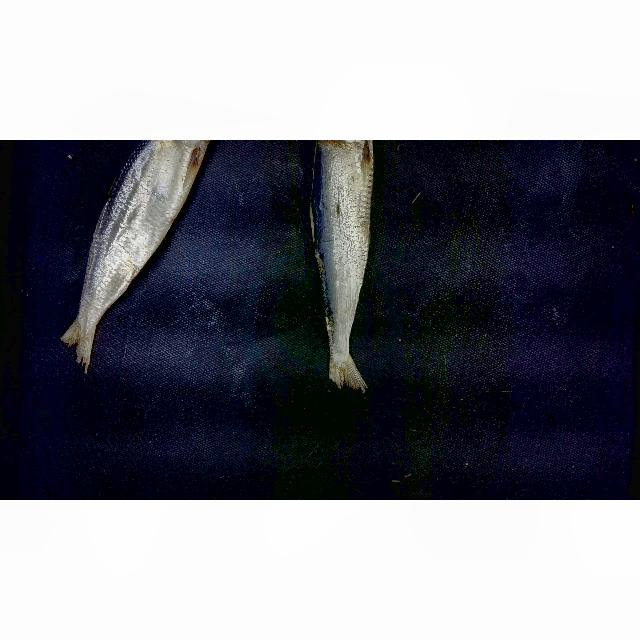Grade_A_Body: (88, 158, 200, 265), (301, 156, 385, 295)
Grade_A_Tail: (51, 262, 150, 379), (311, 301, 380, 405)
